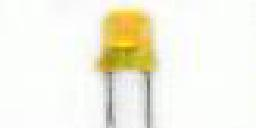LED: (95, 6, 159, 128)
